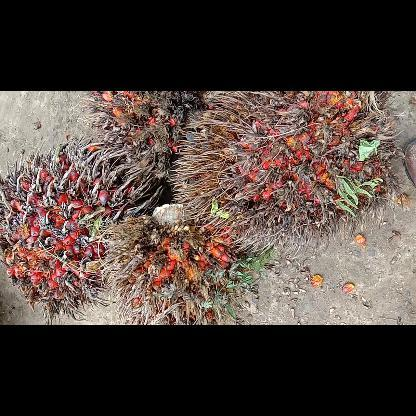Terlalu masak: (166, 91, 406, 261), (0, 131, 159, 325), (100, 194, 268, 324)
